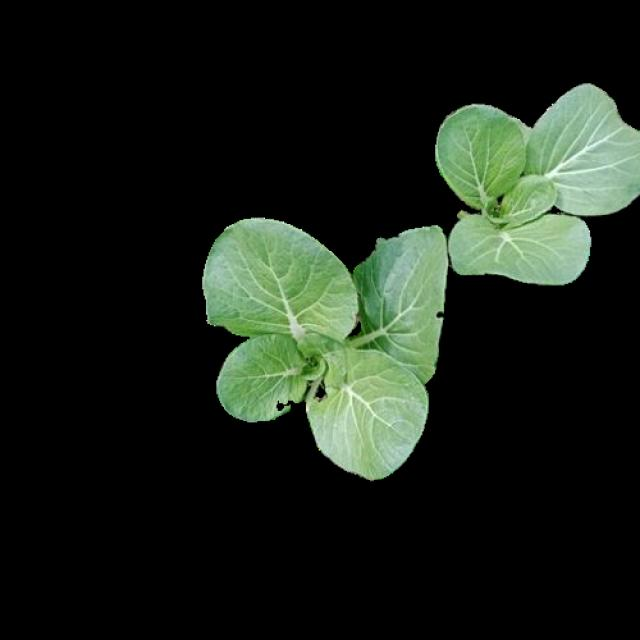healthy: (436, 80, 638, 280)
not-mature: (201, 222, 445, 482), (439, 80, 640, 282)
unhealthy: (215, 336, 319, 418)
